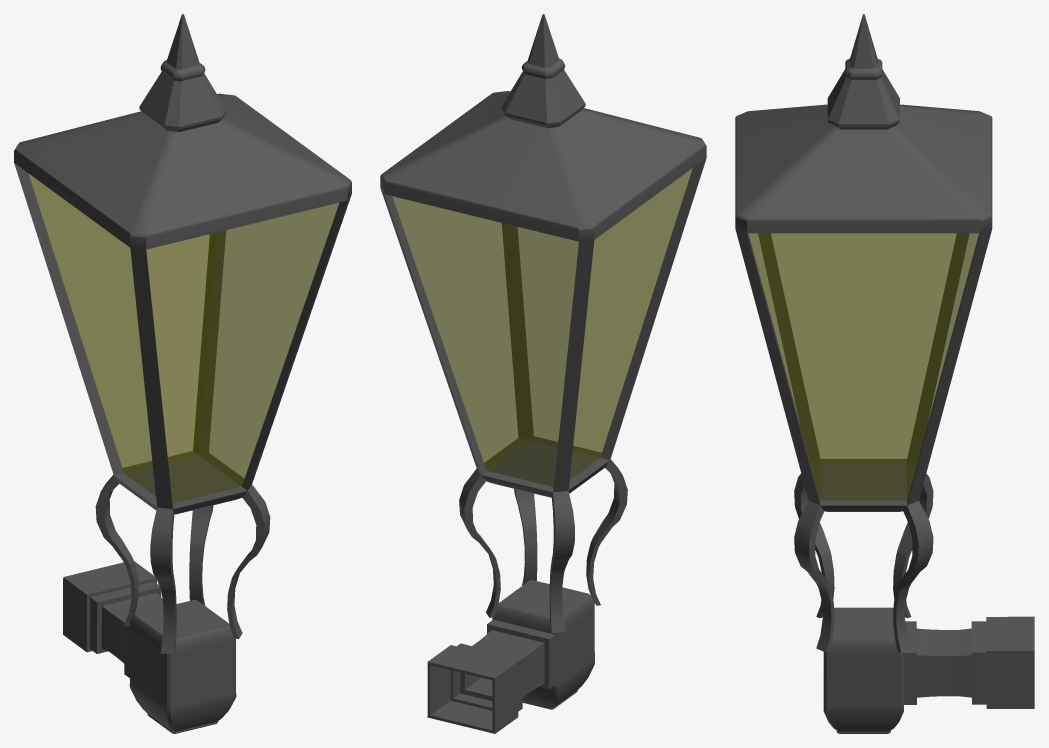
Rendered from WallLight.fbx.
3 views of the same model, side by side, from view 1: azimuth 30°, elevation 25°; view 2: azimuth 150°, elevation 25°; view 3: azimuth 270°, elevation 25° (orthographic). The views are drawn at different scales.
Visible parts, largest first — view 1: WallLight; view 2: WallLight; view 3: WallLight.
Boxes of the visible parts, left/top/right/bottom form: WallLight: left=14, top=14, right=351, bottom=733; WallLight: left=380, top=14, right=706, bottom=733; WallLight: left=735, top=14, right=1034, bottom=733.
Size of the model in its own units: 14.97 by 45.51 by 17.43.
